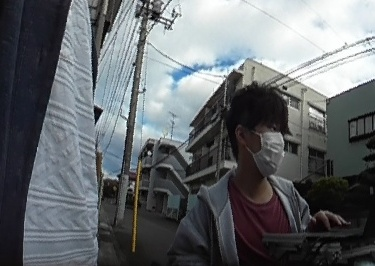person: (176, 85, 323, 266)
